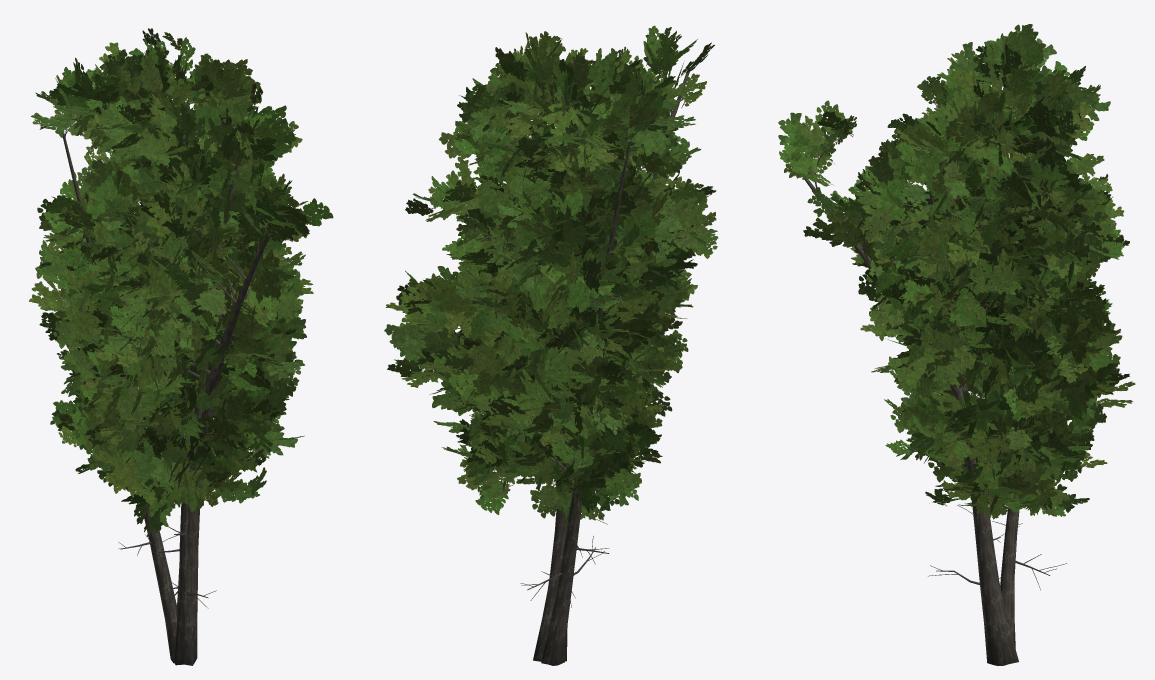
Rendered from olse_stara.glb.
The picture shows the model from 3 angles, left to right: view 1: azimuth 30°, elevation 25°; view 2: azimuth 150°, elevation 25°; view 3: azimuth 270°, elevation 25°; orthographic projection. The views are drawn at different scales.
Visible parts, largest first — view 1: olse_stara; view 2: olse_stara; view 3: olse_stara.
Part boxes in pixels (<box>): olse_stara: <box>29,28,333,665</box>; olse_stara: <box>384,25,718,665</box>; olse_stara: <box>778,24,1135,665</box>.
Size of the model in its own units: 10.65 by 20.83 by 11.98.
Materials: 2 (2 with a texture image).
